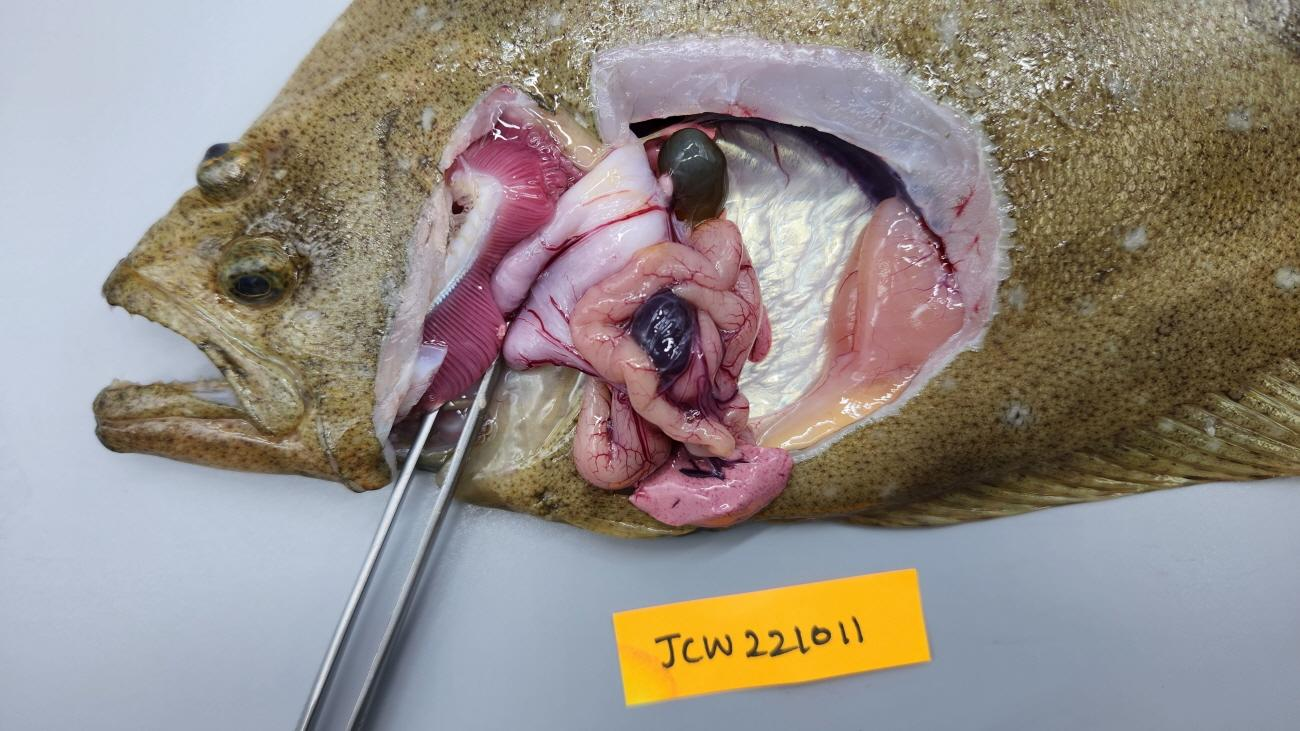POINN: (569, 219, 760, 459)
POSPN: (630, 288, 692, 376)
